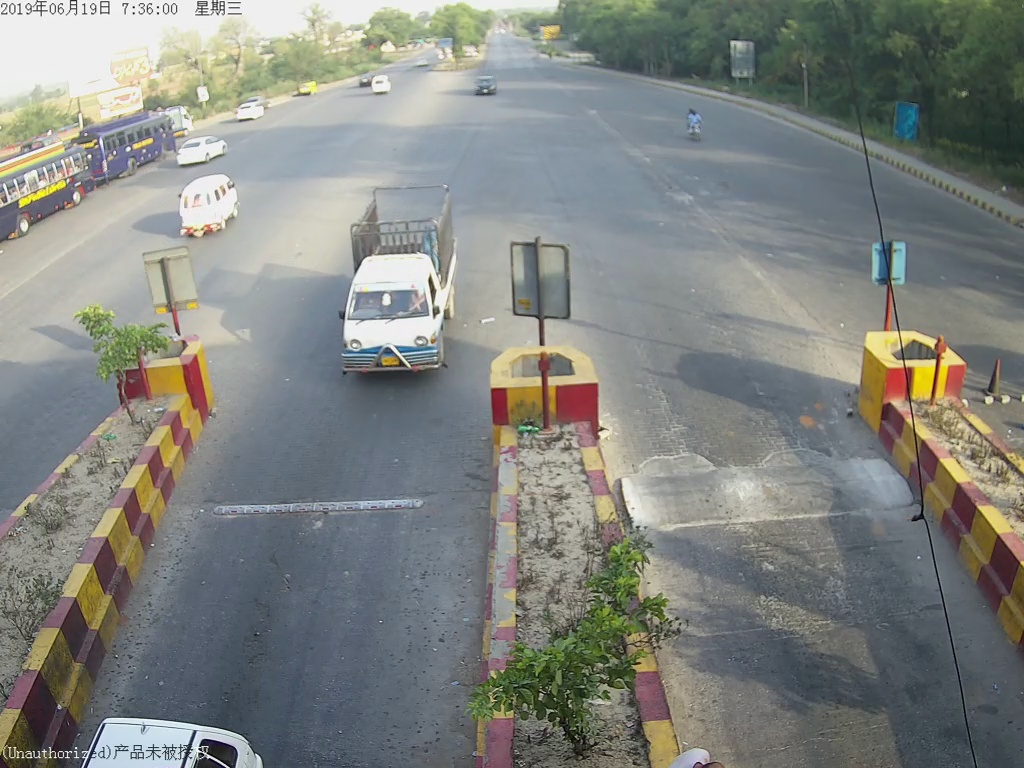Cat-2: (328, 190, 473, 383)
